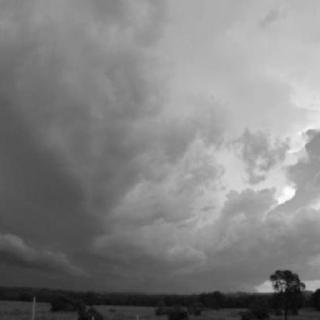Cumulonimbus: (0, 1, 320, 292)
